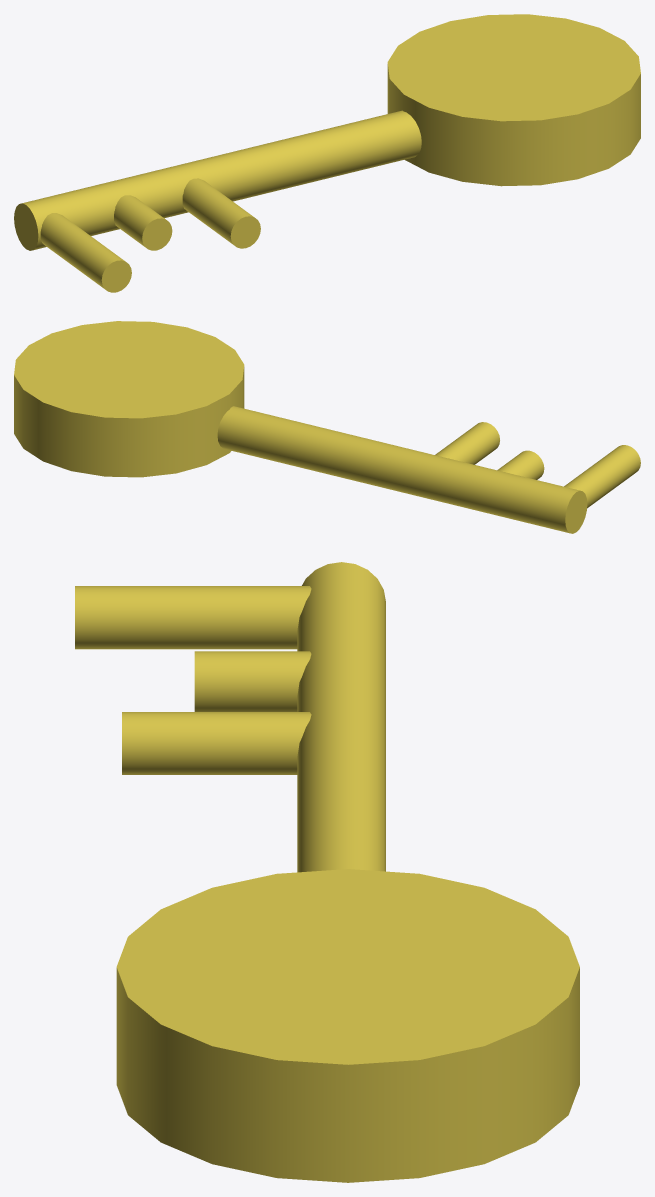
Rendered from key.fbx.
3 views of the same model, one above another, from view 1: azimuth 30°, elevation 25°; view 2: azimuth 150°, elevation 25°; view 3: azimuth 270°, elevation 25° (orthographic). The views are drawn at different scales.
Parts seen in each view (by area): view 1: polySurface49; view 2: polySurface49; view 3: polySurface49.
Boxes of the visible parts, bbox=[...] form: polySurface49: bbox=[14, 14, 640, 292]; polySurface49: bbox=[14, 321, 640, 533]; polySurface49: bbox=[75, 562, 579, 1182].
Size of the model in its own units: 2.42 by 0.2501 by 0.9697.
